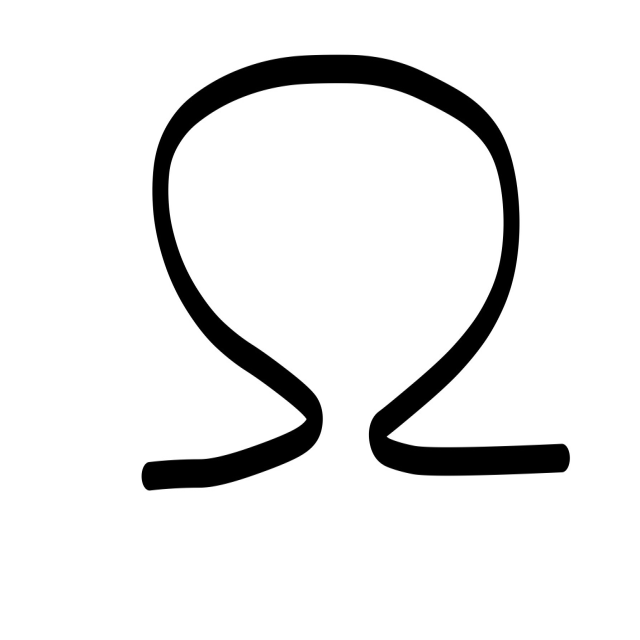ohms: (90, 33, 618, 507)
